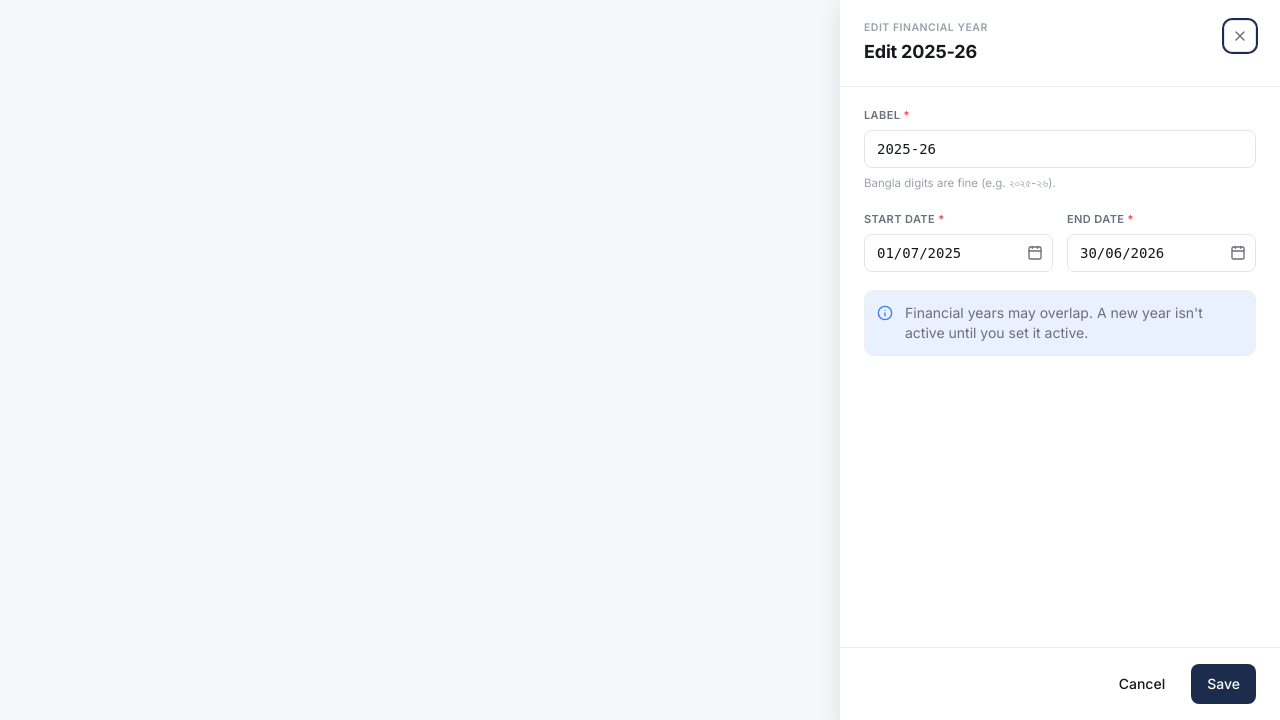
it: FinancialYearFormModal — validation + error mapping › edit sends the row version and maps VALIDATION_ERROR details to the field (FR-MAS-032)
The image size is (1280, 720).
Expected: the field labelled "Start date *" holds "01/07/2025", 864,234 -> 1053,272
Click the button with test id "fy-save" at (1224, 684), box 1191,664 -> 1256,704
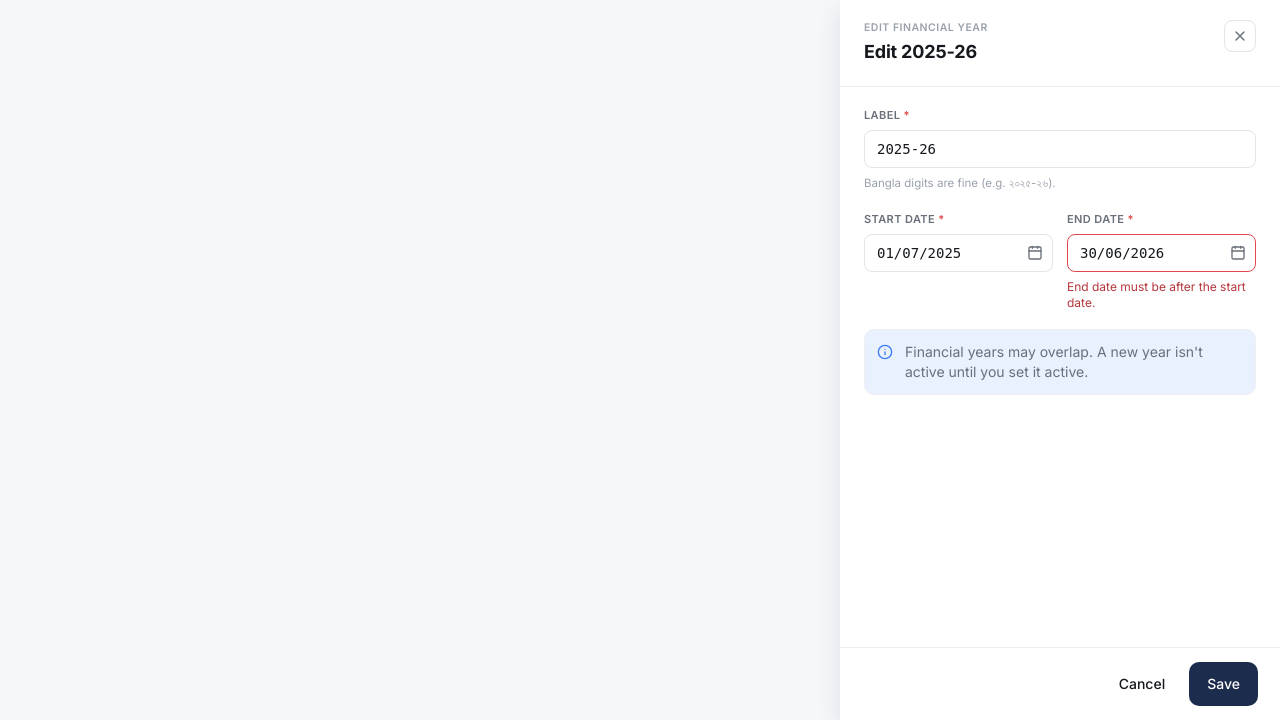
Expected: the text with test id "end-error" reads "End date must be after the start date.", 1067,279 -> 1246,310
